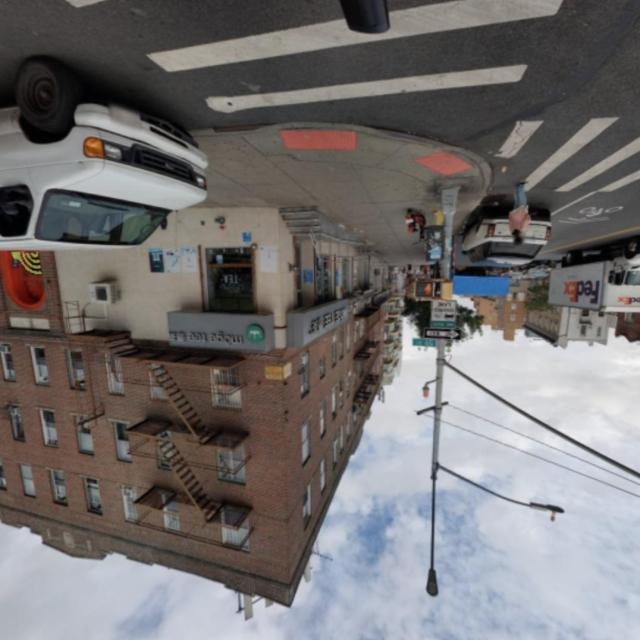off: (400, 383, 616, 600)
